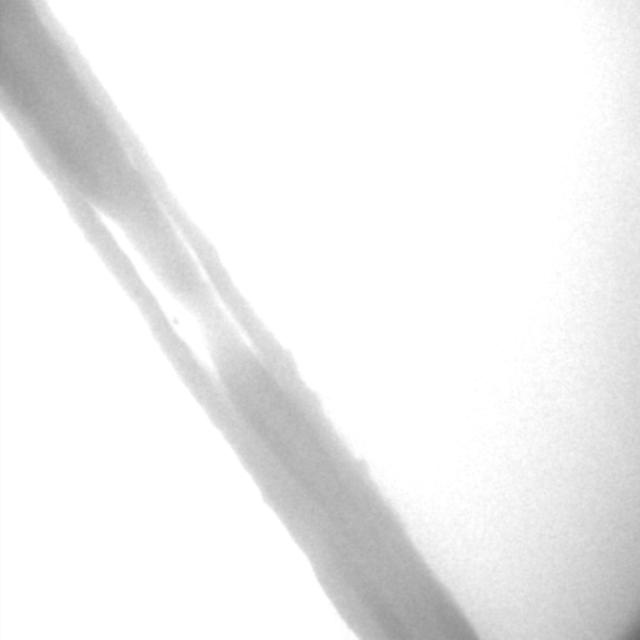unfused: (86, 196, 263, 414)
